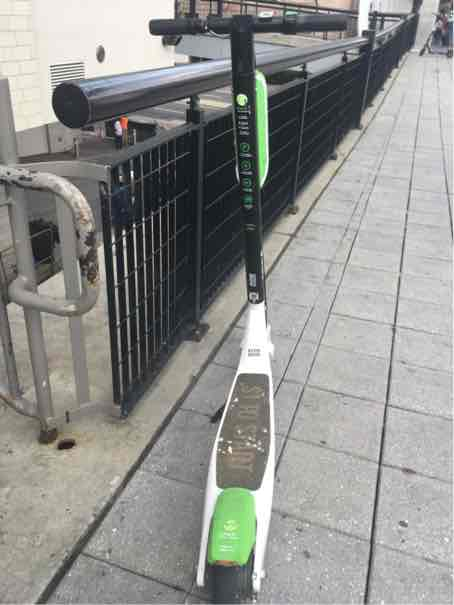scooter: (149, 4, 357, 605)
